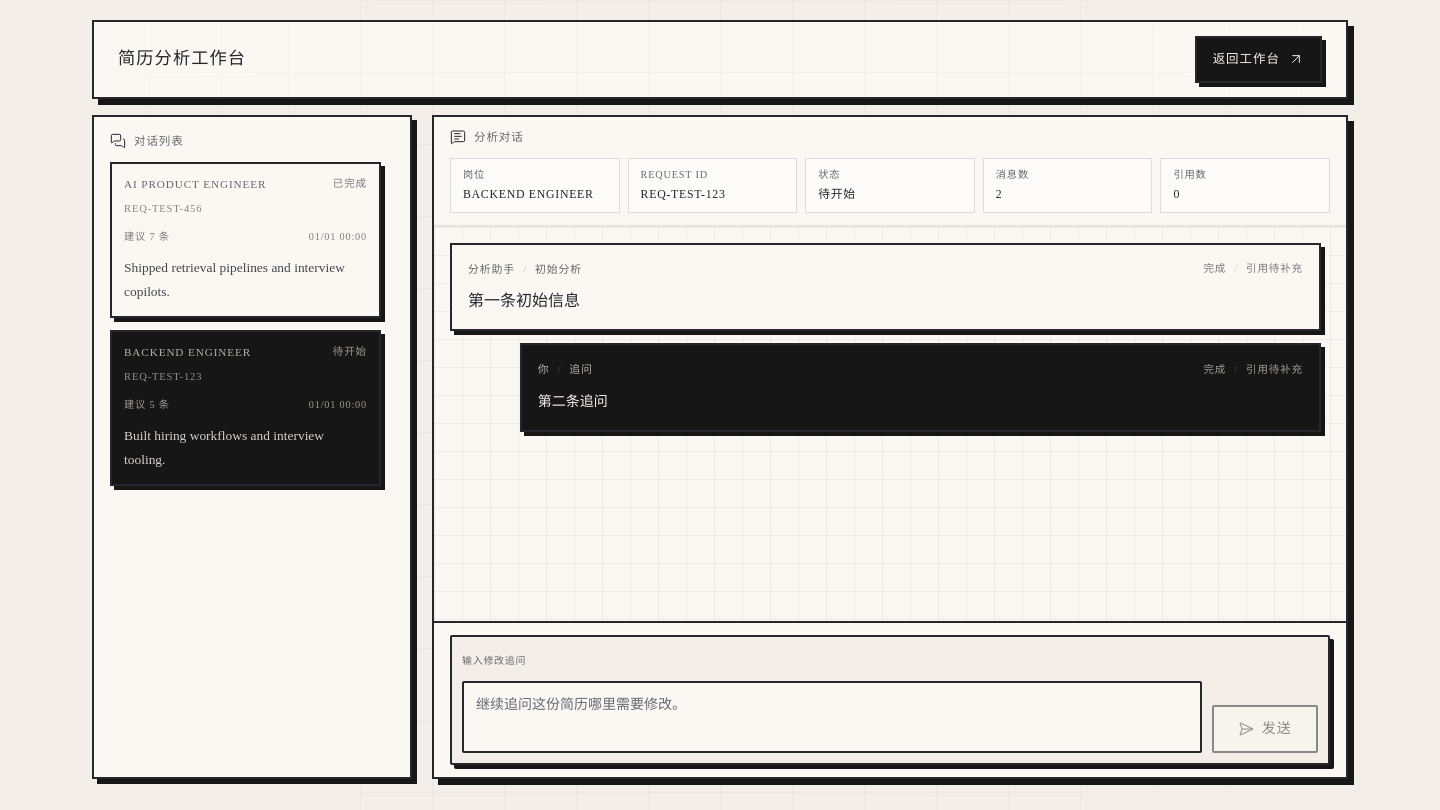
Test: ResultsWorkspace › renders the full message stream in one dialog and switches by pack
The width and height of the screenshot is (1440, 810).
Expected: the text "第一条初始信息" is shown, [468, 292, 580, 309]
Expected: the text "第二条追问" is shown, [538, 394, 608, 409]
Click the button "AI Product Engineer" at (195, 184), box [110, 162, 381, 318]
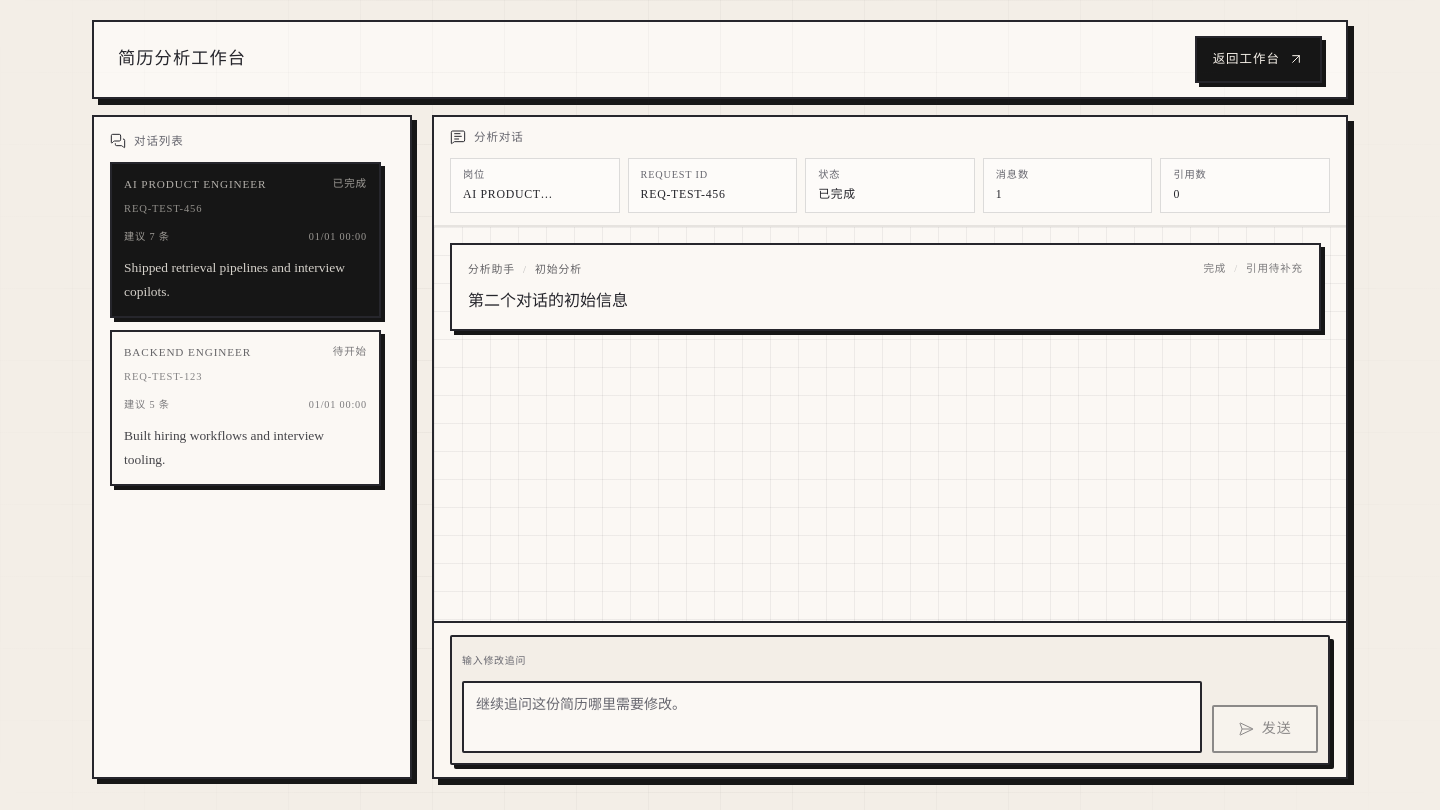
Expected: the text "第二个对话的初始信息" is shown, [468, 292, 628, 309]
